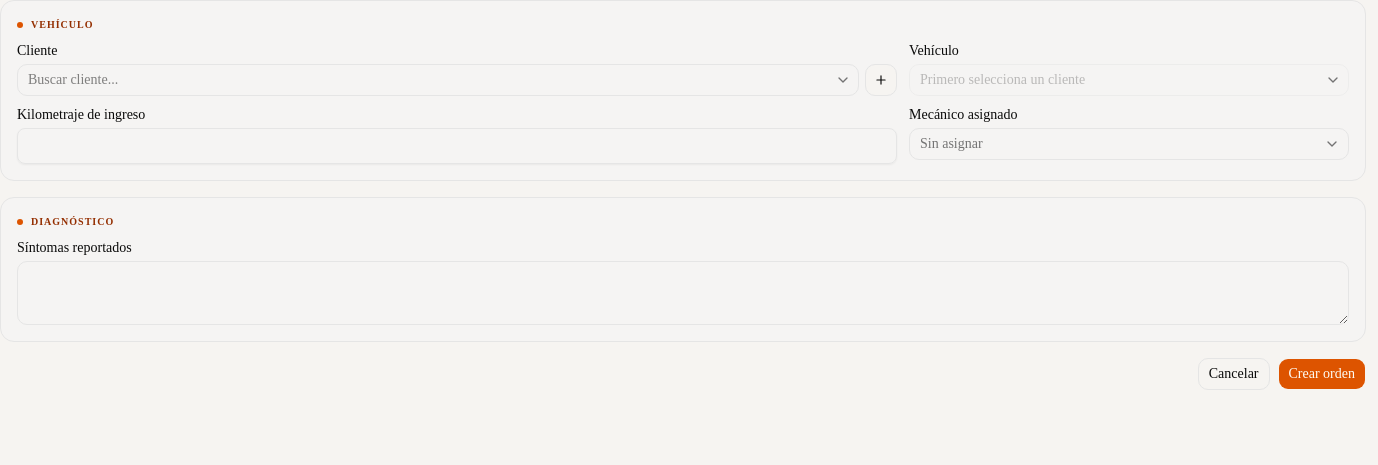
Test: NuevaOrdenDesdeCeroForm › shows a warning and a way to create a vehiculo instead of a dead end when the selected cliente has none
Click the dropdown labelled "Cliente".
click(438, 80)  # box [17, 64, 859, 96]
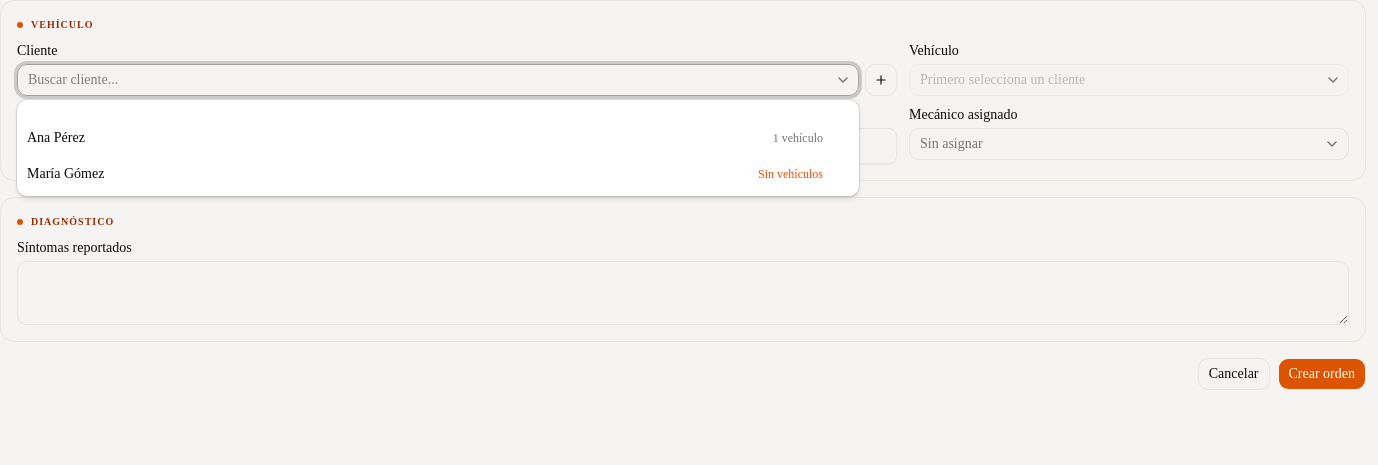
Click the option "María Gómez Sin vehículos".
click(66, 174)  # box [27, 166, 823, 181]
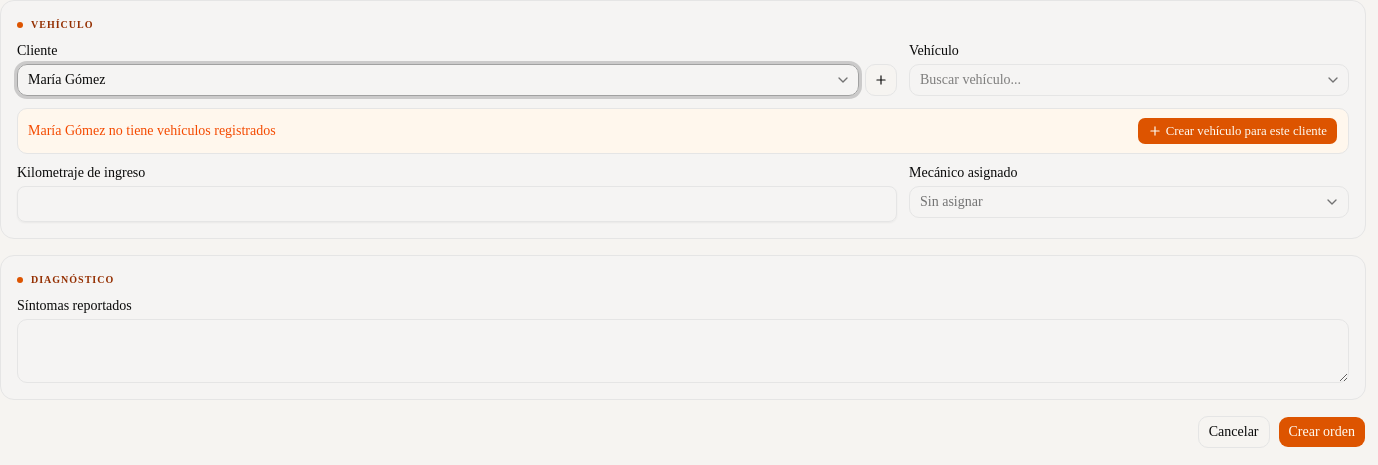
Expected: the text "María Gómez no tiene vehículos registrados" is shown, [28, 121, 276, 141]
Expected: the button "Crear vehículo para este cliente" is shown, [1137, 117, 1338, 145]
